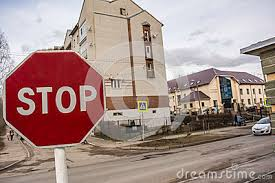stop_sign: (4, 50, 106, 147)
